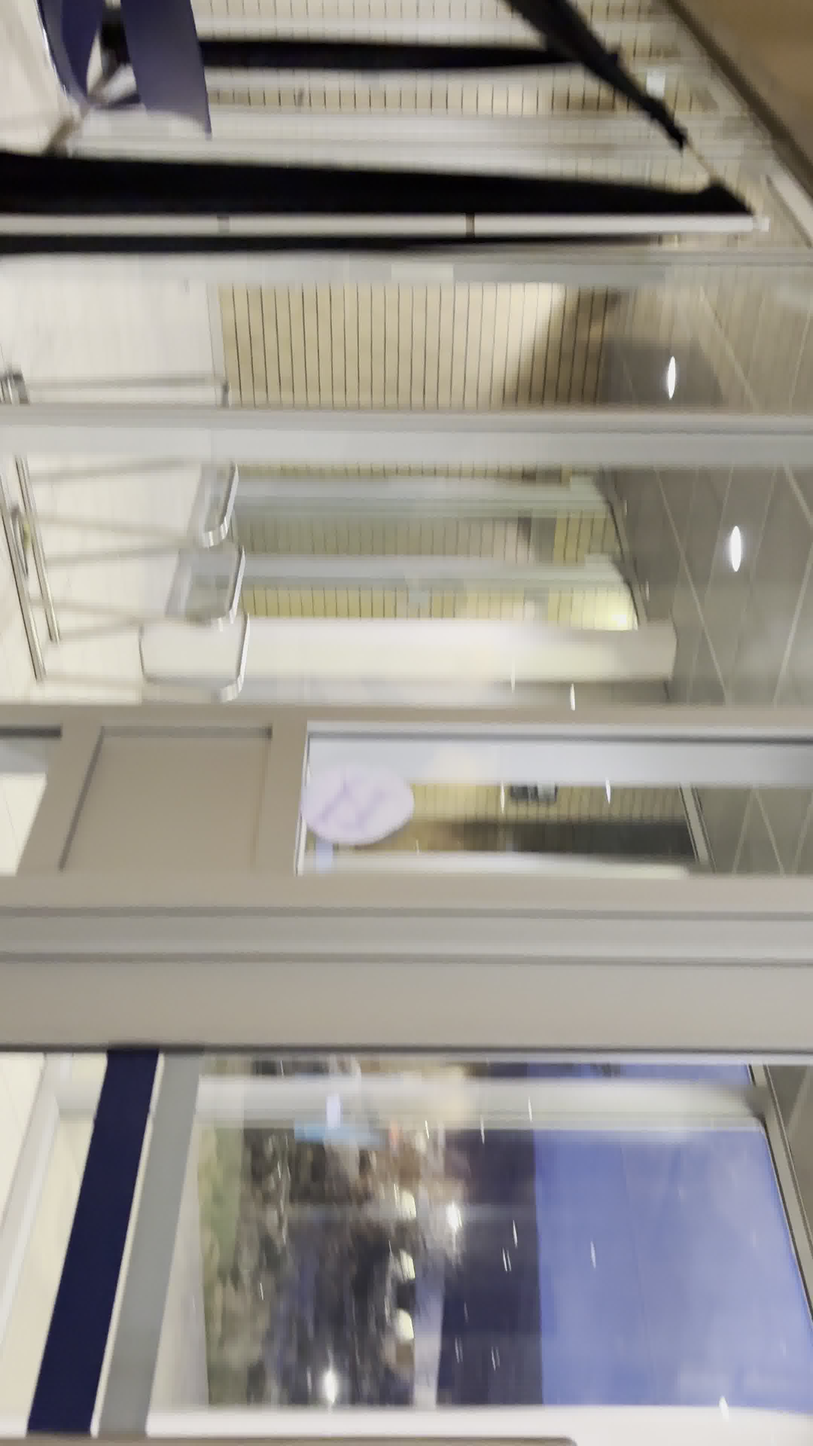Target: (297, 760, 418, 848)
